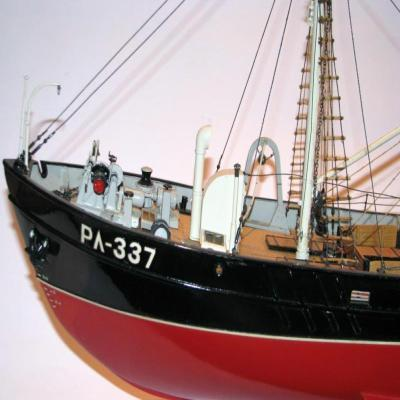other: (3, 0, 400, 400)
